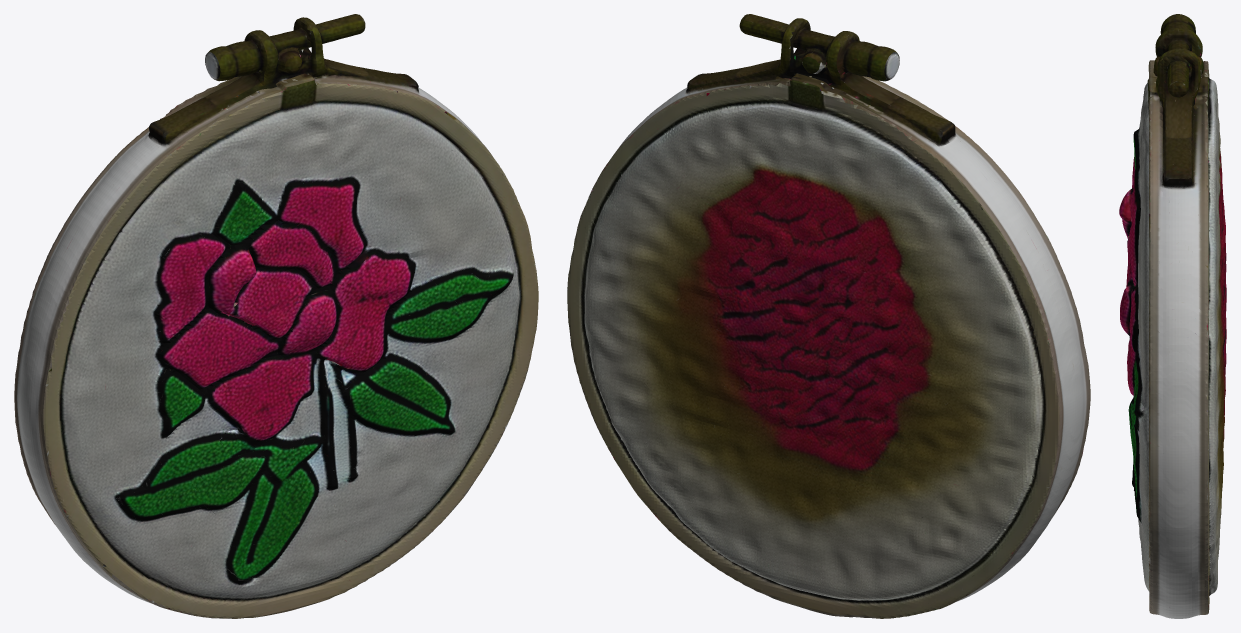
File: 3D_06_刺绣绣绷_textured.glb
The picture shows the model from 3 angles, left to right: view 1: azimuth 30°, elevation 25°; view 2: azimuth 150°, elevation 25°; view 3: azimuth 270°, elevation 25°; orthographic projection. The views are drawn at different scales.
Parts seen in each view (by area): view 1: 3D_06_刺绣绣绷_白膜.obj; view 2: 3D_06_刺绣绣绷_白膜.obj; view 3: 3D_06_刺绣绣绷_白膜.obj.
Part boxes in pixels (x1,y1,x2,y2): 3D_06_刺绣绣绷_白膜.obj: (14, 14, 538, 618); 3D_06_刺绣绣绷_白膜.obj: (567, 14, 1090, 618); 3D_06_刺绣绣绷_白膜.obj: (1119, 14, 1226, 618).
Size of the model in its own units: 1.82 by 2 by 0.351.
Materials: 1 (1 with a texture image).
